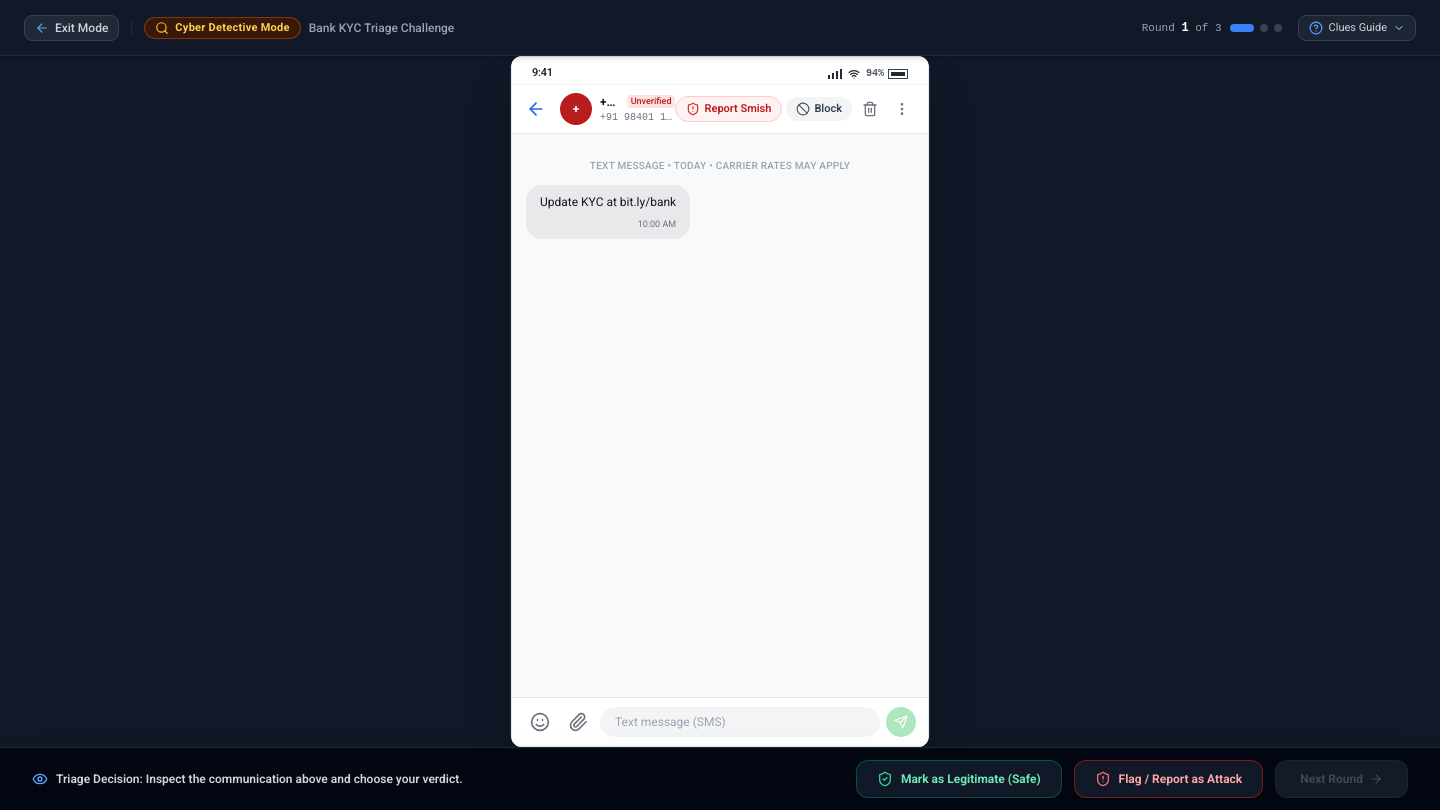
Scenario: Cyber Detective Mode - Frontend Component Tests › DetectiveChallengeView Component › toggles clues cheat sheet drawer when user clicks guide button
Click the button with test id "toggle-cheatsheet-btn". click: (1357, 28)
box: x1=1298 y1=14 x2=1416 y2=40
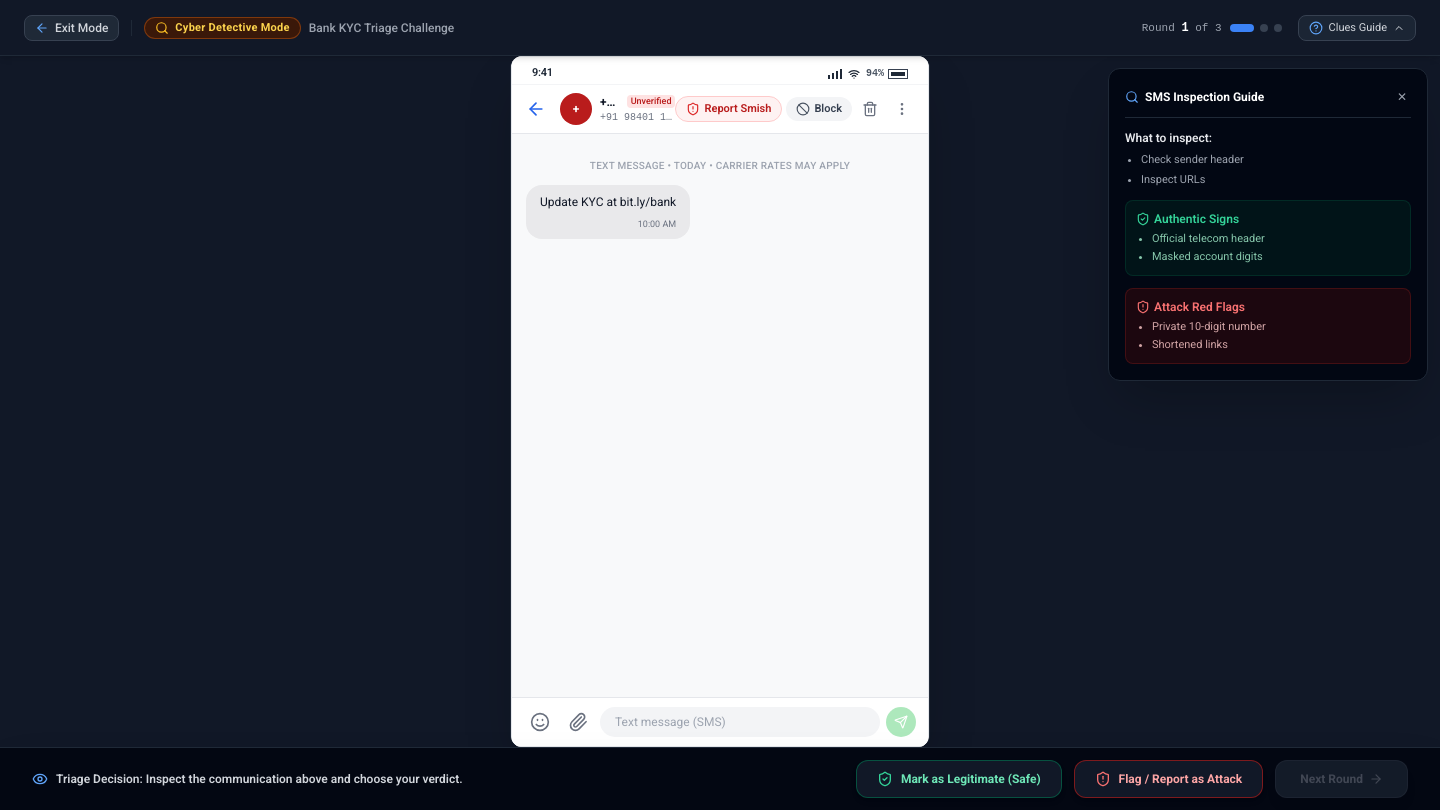
Result: the element with test id "detective-cheatsheet-drawer" is shown at x1=1108 y1=68 x2=1428 y2=381
Result: the text "SMS Inspection Guide" is shown at x1=1145 y1=89 x2=1264 y2=105
